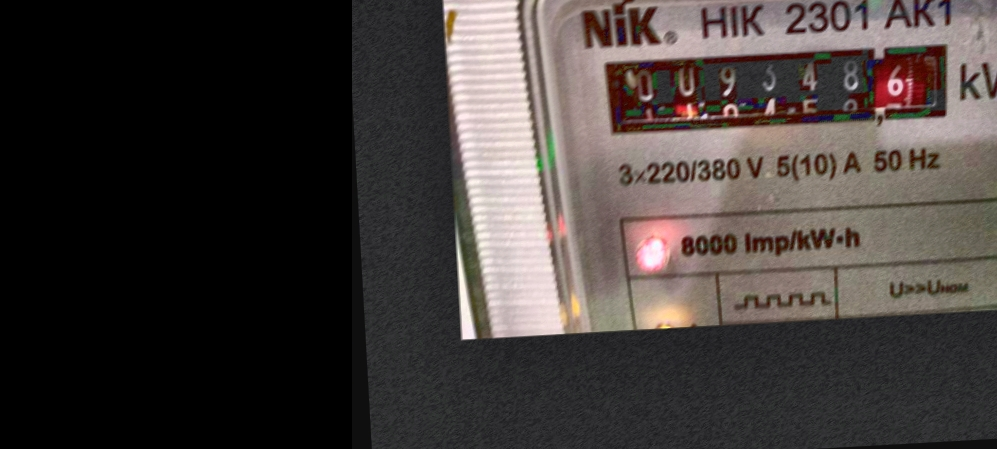0: (675, 63, 698, 100), (635, 68, 656, 104)
3: (757, 60, 781, 93)
4: (797, 58, 820, 96)
6: (885, 63, 908, 98)
8: (840, 57, 862, 92)
9: (718, 62, 738, 97)
screen: (581, 28, 971, 152)
